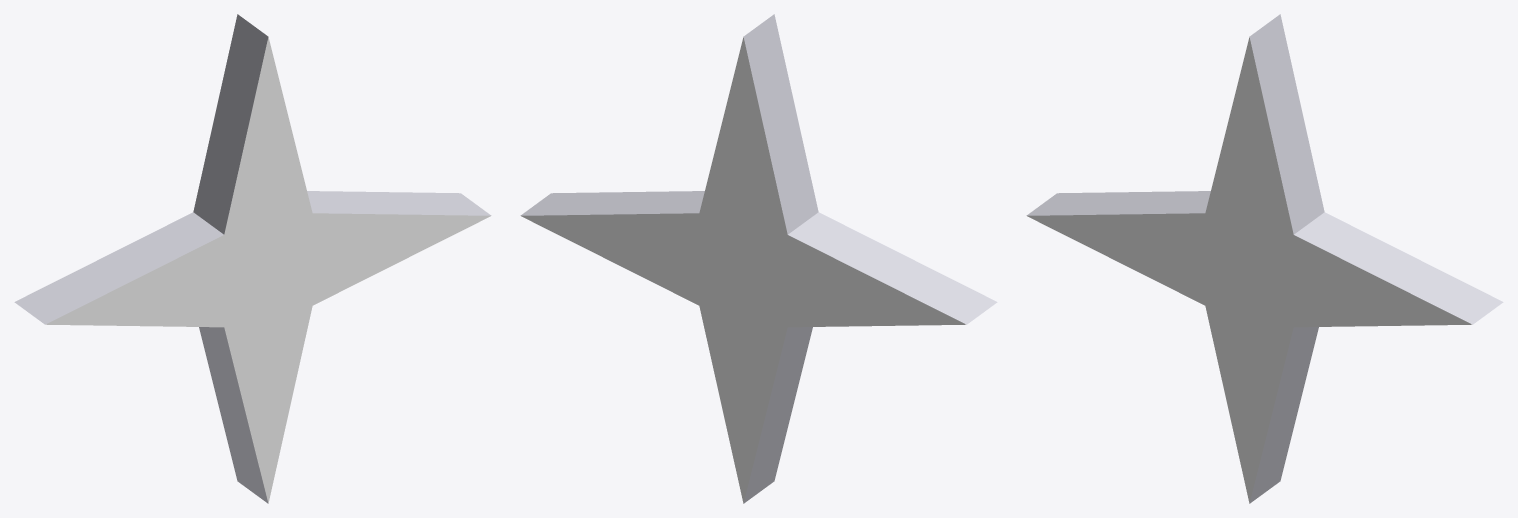
Rendered from spark.obj.
3 views of the same model, side by side, from view 1: azimuth 30°, elevation 25°; view 2: azimuth 150°, elevation 25°; view 3: azimuth 330°, elevation 25° (orthographic).
Visible parts, largest first — view 1: spark; view 2: spark; view 3: spark.
Boxes of the visible parts, bbox=[...] form: spark: bbox=[14, 14, 491, 503]; spark: bbox=[520, 14, 997, 503]; spark: bbox=[1026, 14, 1503, 503].
Bounding box in the file's own units: 1 × 1 × 0.12.
1 material, 1 textured.
